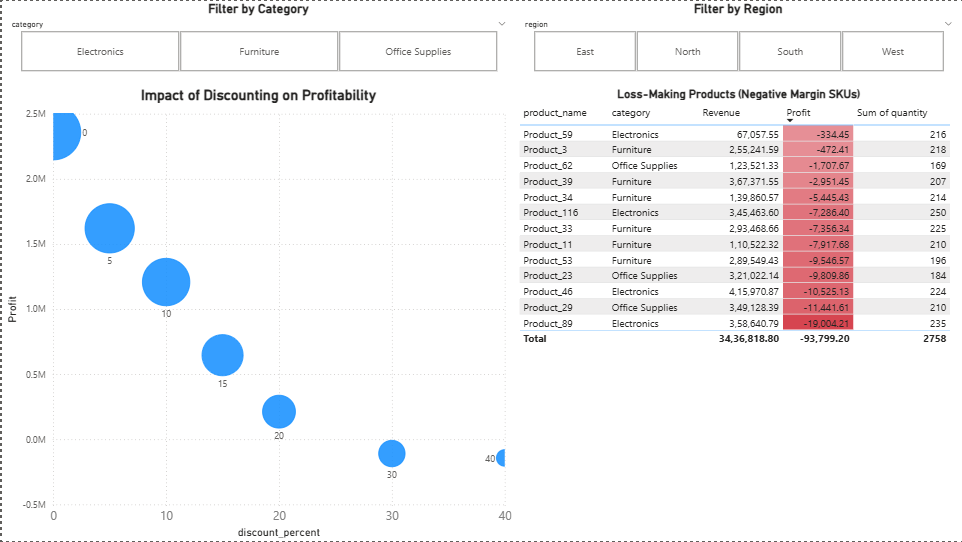

The page's visual inventory and layout, read from the dashboard file:
{"tool":"powerbi","page":{"name":"Pricing Analysis","canvas":[1280,720],"ordinal":1},"visuals":[{"type":"scatterChart","title":"Impact of Discounting on Profitability","fields":{"Y":["customers (1).Profit"],"X":["orders (1).discount_percent"],"Size":["customers (1).Revenue"]},"box":[0,114,684,606],"z":0},{"type":"tableEx","title":"Loss-Making Products (Negative Margin SKUs)","fields":{"Values":["products.product_name","products.category","customers (1).Revenue","customers (1).Profit","Sum(orders (1).quantity)"]},"box":[684,114,596,606],"z":1000},{"type":"slicer","title":"Filter by Category","fields":{"Values":["products.category"]},"box":[0,0,684.1,100.2],"z":2000},{"type":"slicer","title":"Filter by Region","fields":{"Values":["customers (1).region"]},"box":[684.1,0,595.3,100.2],"z":3000}]}

Visuals, with their boxes in screenshot pixels (x1, y1, x2, y2), scaled from the page's 1280x720 canvas onto the 962x542 screenshot:
"Impact of Discounting on Profitability" scatterChart: [x1=0, y1=86, x2=514, y2=541]
"Loss-Making Products (Negative Margin SKUs)" tableEx: [x1=514, y1=86, x2=961, y2=541]
"Filter by Category" slicer: [x1=0, y1=0, x2=514, y2=75]
"Filter by Region" slicer: [x1=514, y1=0, x2=961, y2=75]
